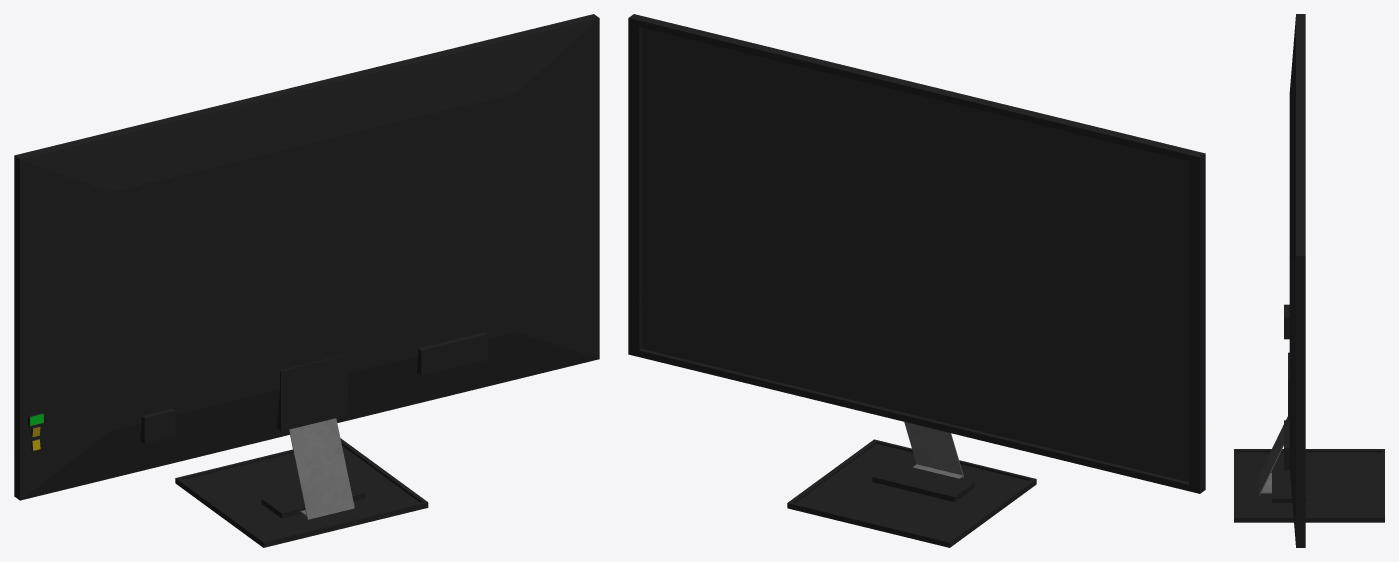
File: generic_monitor_low_poly.glb
3 views of the same model, side by side, from view 1: azimuth 30°, elevation 25°; view 2: azimuth 150°, elevation 25°; view 3: azimuth 270°, elevation 25° (orthographic). The views are drawn at different scales.
Visible parts, largest first — view 1: monitor; view 2: monitor; view 3: monitor.
Part boxes in pixels (<box>): monitor: <box>14,14,599,547</box>; monitor: <box>628,14,1205,547</box>; monitor: <box>1234,14,1384,547</box>.
Size of the model in its own units: 51.74 by 35.19 by 13.63.
Materials: 1 (1 with a texture image).
